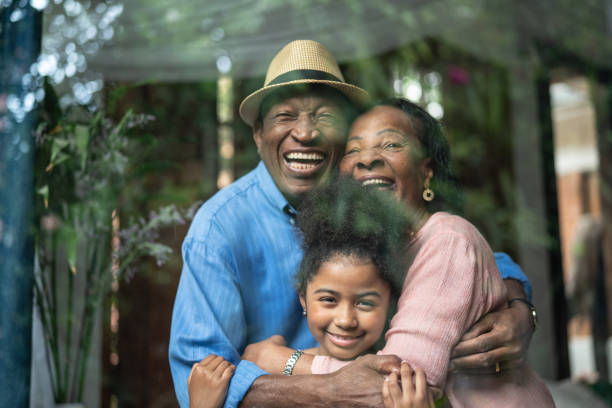without mask: (295, 226, 401, 361), (240, 65, 346, 200), (339, 81, 445, 216)
